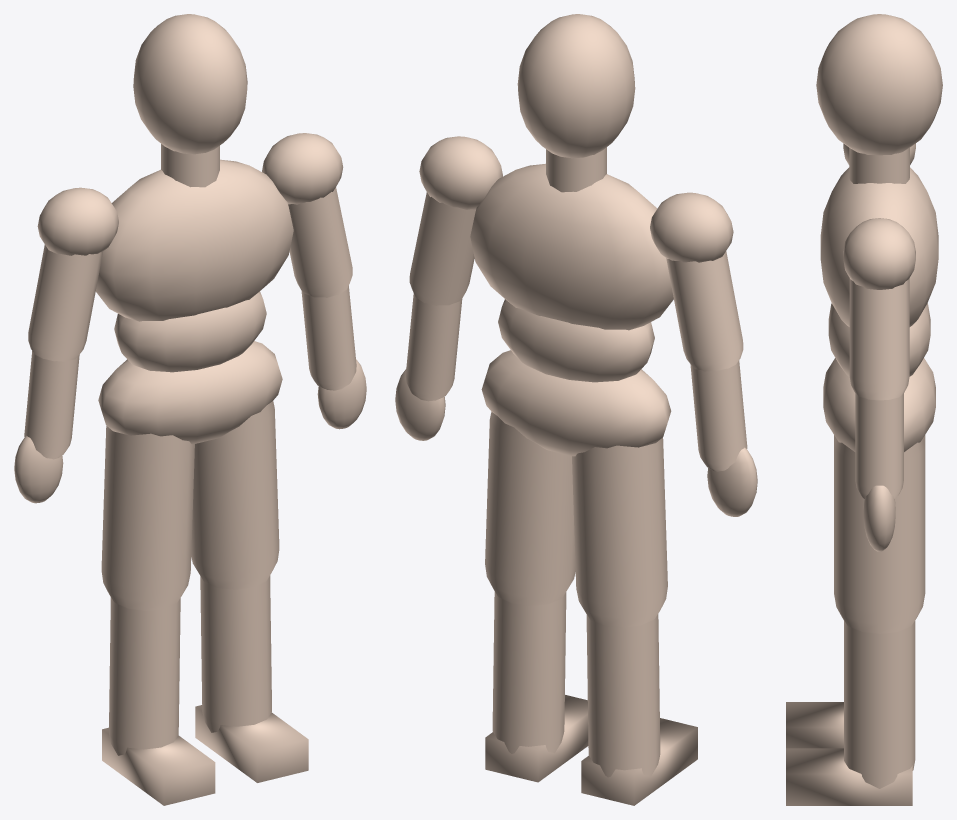
The model's file is androgynous.glb.
3 renders of one model, left to right at view 1: azimuth 30°, elevation 25°; view 2: azimuth 150°, elevation 25°; view 3: azimuth 270°, elevation 25°, orthographic. The views are drawn at different scales.
Visible parts, largest first — view 1: Avatar; view 2: Avatar; view 3: Avatar.
Part boxes in pixels (<box>): Avatar: <box>14,14,366,805</box>; Avatar: <box>395,14,757,805</box>; Avatar: <box>786,14,942,805</box>.
Size of the model in its own units: 0.75 by 1.51 by 0.285.
